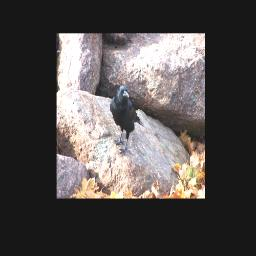Crow: (110, 82, 147, 157)
